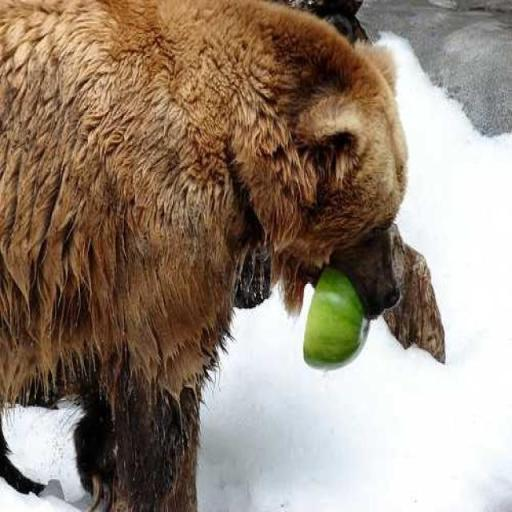Bear: (0, 0, 408, 510)
